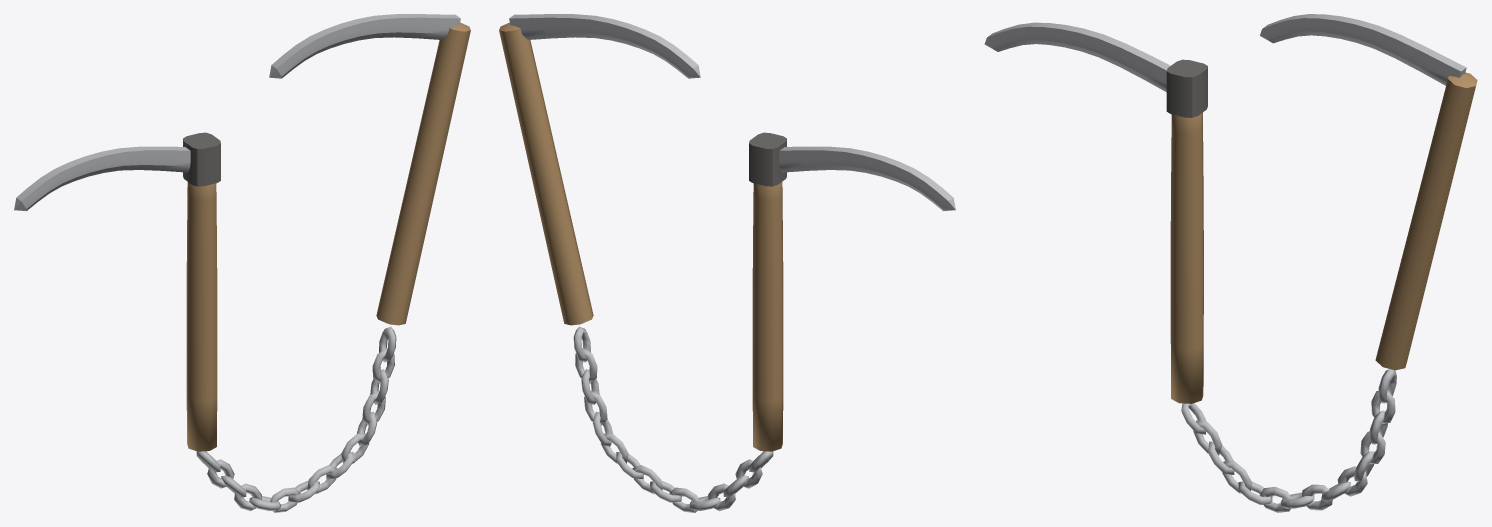
Rendered from double-chained-kama.glb.
The picture shows the model from 3 angles, left to right: view 1: azimuth 30°, elevation 25°; view 2: azimuth 150°, elevation 25°; view 3: azimuth 330°, elevation 25°; orthographic projection. The views are drawn at different scales.
Parts seen in each view (by area): view 1: double-chained-kama; view 2: double-chained-kama; view 3: double-chained-kama.
Part boxes in pixels (x1,y1,x2,y2): double-chained-kama: (14, 14, 470, 512); double-chained-kama: (499, 14, 955, 512); double-chained-kama: (984, 14, 1477, 512).
Size of the model in its own units: 1.02 by 1.01 by 0.0667.
